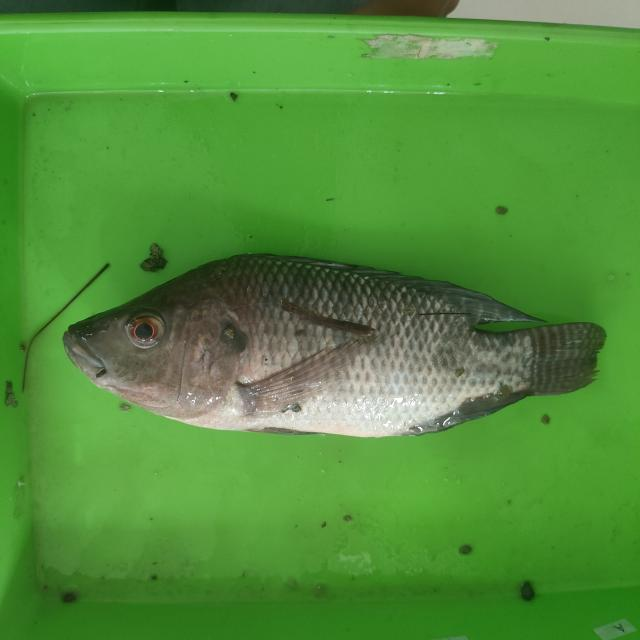Fresh: (199, 247, 608, 444), (100, 306, 177, 366)
